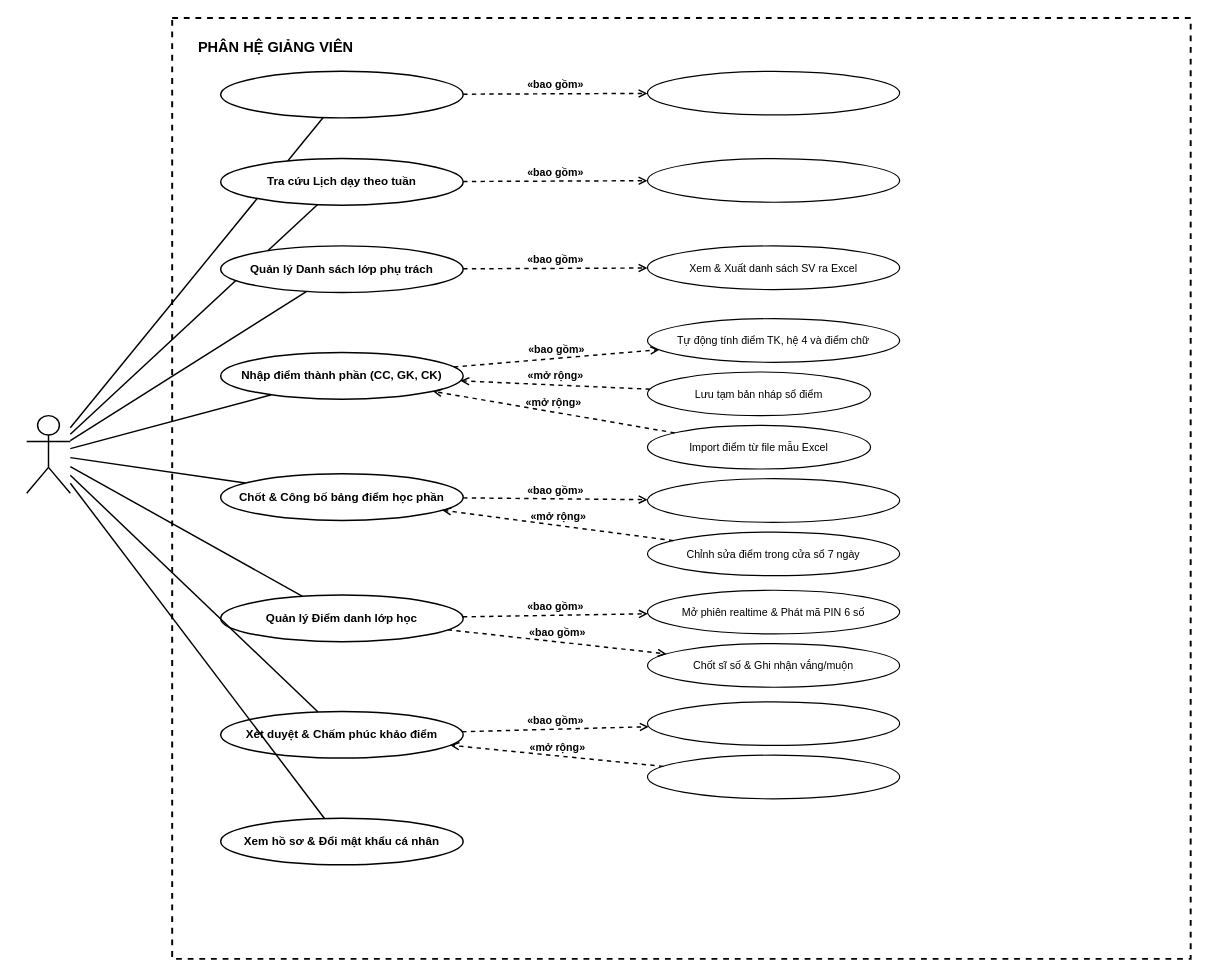
The diagram is 1209 pixels wide and 976 high, and some of its shapes have lost their labels. The centre of each missing label's shape, as x and y in pixels:
"Cập nhật điểm phúc khảo & Lý do" belongs at [773,776].
"Giảng viên" belongs at [48,454].
"Kiểm tra điều kiện 100% SV đủ điểm" belongs at [773,500].
"Thống kê sĩ số và tiến độ các lớp dạy" belongs at [773,92].
"Xem Bảng điều khiển Giảng viên" belongs at [341,94].
"Xem phòng học, ca dạy và sĩ số" belongs at [773,180].
"Xem đơn phúc khảo & lý do của SV" belongs at [773,723].
